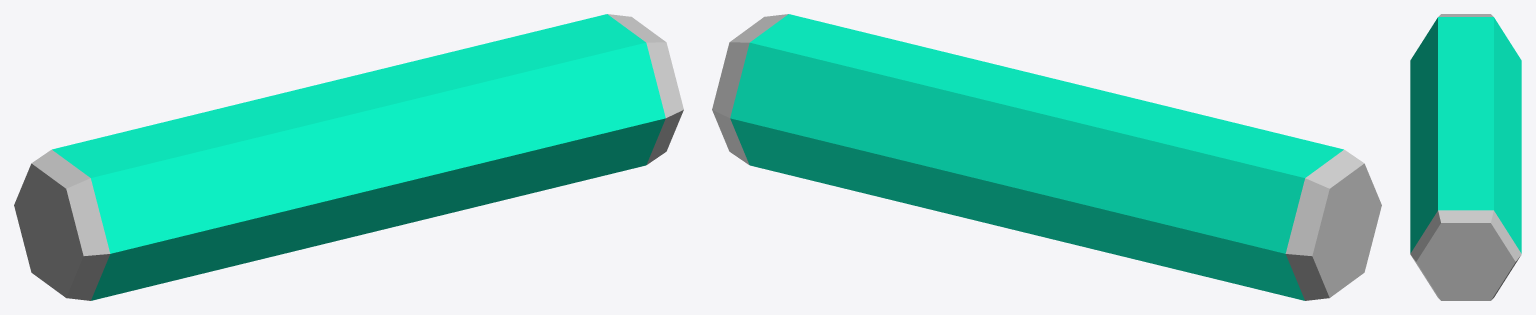
Rendered from Glowstick.fbx.
3 views of the same model, side by side, from view 1: azimuth 30°, elevation 25°; view 2: azimuth 150°, elevation 25°; view 3: azimuth 270°, elevation 25° (orthographic). The views are drawn at different scales.
Visible parts, largest first — view 1: Glowstick; view 2: Glowstick; view 3: Glowstick.
Part boxes in pixels (x1,y1,x2,y2): Glowstick: (14,14,683,300); Glowstick: (712,14,1381,300); Glowstick: (1410,14,1521,300).
Size of the model in its own units: 0.1542 by 0.0301 by 0.0348.
